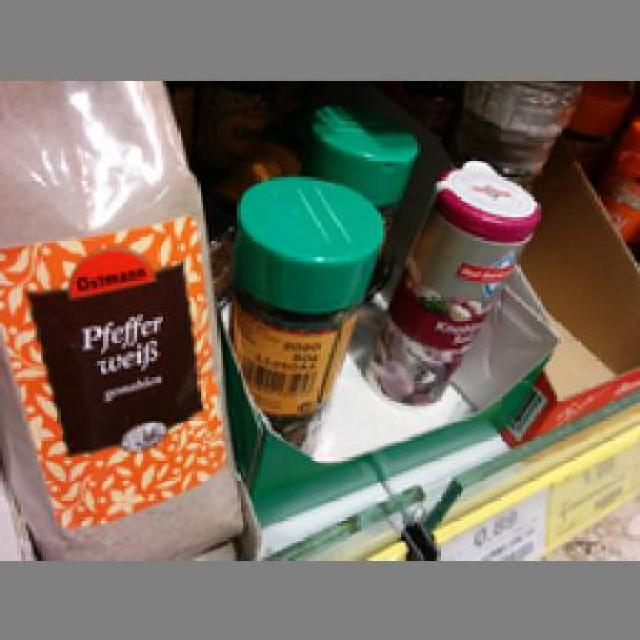Spices: (0, 80, 243, 560), (229, 172, 380, 448), (368, 160, 538, 403)
